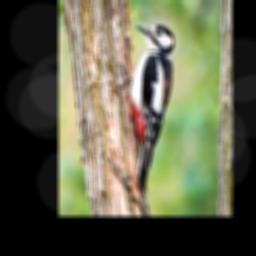Woodpecker: (129, 25, 174, 194)
